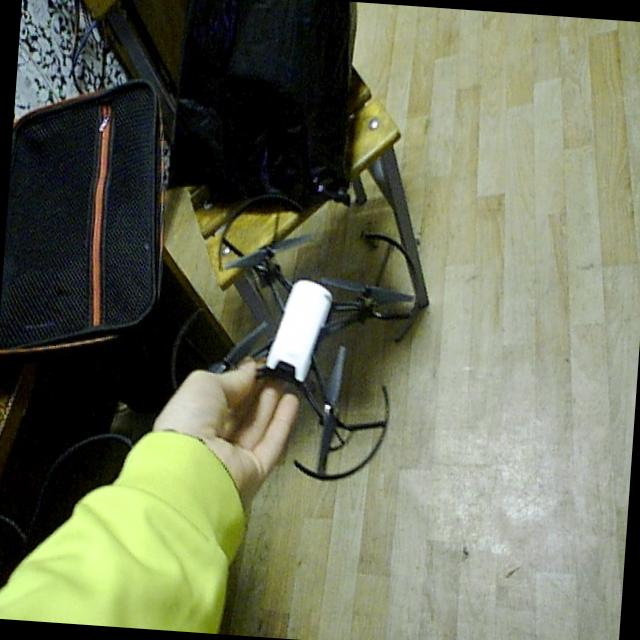drone: (182, 186, 430, 488)
